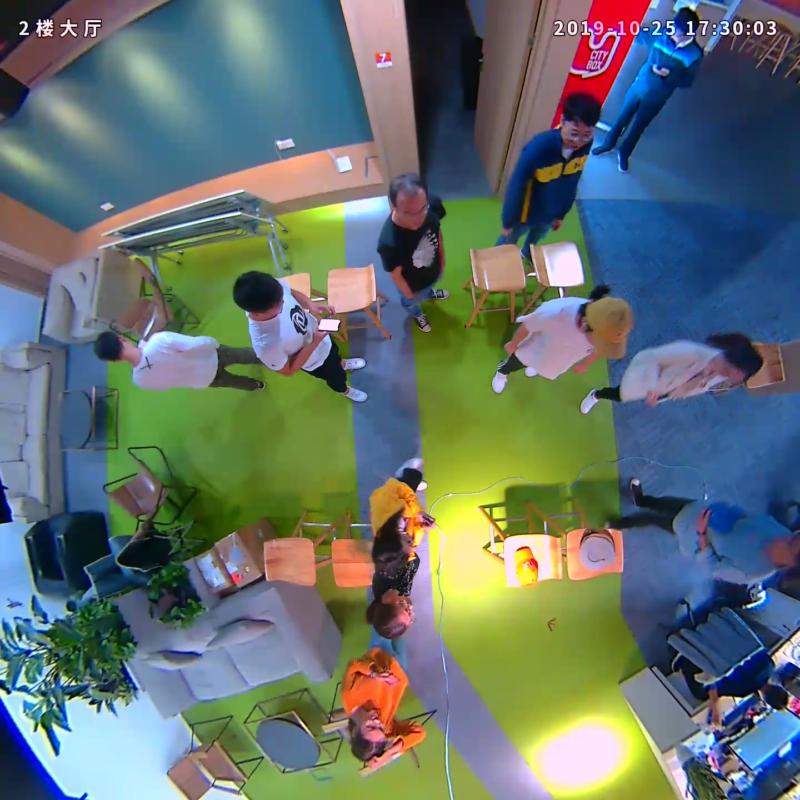head: (578, 293, 632, 360), (231, 268, 283, 318), (558, 92, 601, 150), (387, 172, 430, 230), (349, 709, 389, 764), (710, 344, 765, 381), (371, 527, 415, 571), (373, 596, 415, 639), (92, 329, 132, 362), (668, 5, 699, 46)
